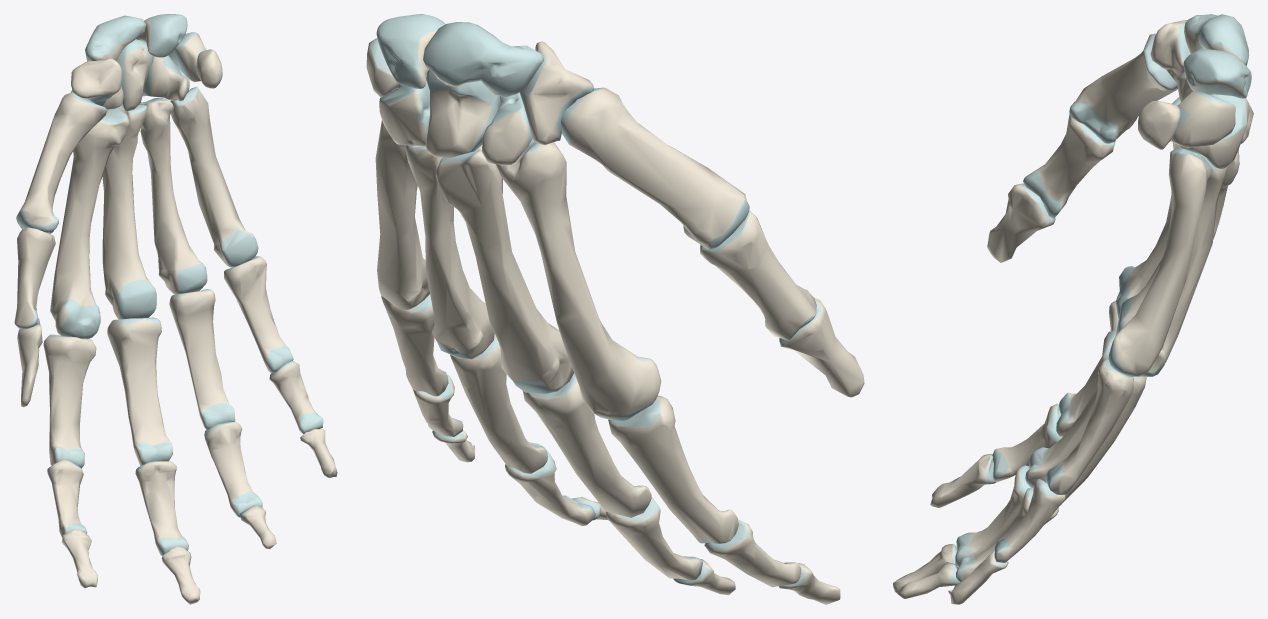
Rendered from hand.glb.
The picture shows the model from 3 angles, left to right: view 1: azimuth 30°, elevation 25°; view 2: azimuth 150°, elevation 25°; view 3: azimuth 270°, elevation 25°; orthographic projection. The views are drawn at different scales.
Parts seen in each view (by area): view 1: Second metacarpal bone (right), Third metacarpal bone (right), Fifth metacarpal bone (right), Fourth metacarpal bone (right), Proximal phalanx of third finger of hand (right), First metacarpal bone (right), Proximal phalanx of fourth finger of hand (right), Proximal phalanx of second finger of hand (right), Proximal phalanx of fifth finger of hand (right), Middle phalanx of third finger of hand (right), Proximal phalanx of first finger of hand (right), Middle phalanx of fourth finger of hand (right) (+14 smaller); view 2: Second metacarpal bone (right), Third metacarpal bone (right), First metacarpal bone (right), Fourth metacarpal bone (right), Proximal phalanx of second finger of hand (right), Fifth metacarpal bone (right), Proximal phalanx of third finger of hand (right), Proximal phalanx of first finger of hand (right), Scaphoid bone (right), Proximal phalanx of fourth finger of hand (right), Capitate bone (right), Trapezium bone (right) (+13 smaller); view 3: Fifth metacarpal bone (right), First metacarpal bone (right), Proximal phalanx of first finger of hand (right), Proximal phalanx of fifth finger of hand (right), Fourth metacarpal bone (right), Distal phalanx of first finger of hand (right), Triquetrum bone (right), Lunate bone (right), Scaphoid bone (right), Middle phalanx of fifth finger of hand (right), Proximal phalanx of third finger of hand (right), Middle phalanx of third finger of hand (right) (+13 smaller).
Part boxes in pixels (bbox=[...]): Second metacarpal bone (right): bbox=[50, 108, 129, 338]; Third metacarpal bone (right): bbox=[102, 104, 156, 319]; Fifth metacarpal bone (right): bbox=[170, 86, 258, 267]; Fourth metacarpal bone (right): bbox=[139, 98, 207, 294]; Proximal phalanx of third finger of hand (right): bbox=[107, 317, 172, 465]; First metacarpal bone (right): bbox=[16, 92, 107, 233]; Proximal phalanx of fourth finger of hand (right): bbox=[169, 289, 235, 429]; Proximal phalanx of second finger of hand (right): bbox=[43, 334, 96, 468]; Proximal phalanx of fifth finger of hand (right): bbox=[224, 256, 293, 372]; Middle phalanx of third finger of hand (right): bbox=[135, 461, 188, 555]; Proximal phalanx of first finger of hand (right): bbox=[14, 227, 55, 329]; Middle phalanx of fourth finger of hand (right): bbox=[204, 422, 262, 517]; Second metacarpal bone (right): bbox=[496, 138, 661, 421]; Third metacarpal bone (right): bbox=[436, 145, 573, 394]; First metacarpal bone (right): bbox=[561, 87, 749, 249]; Fourth metacarpal bone (right): bbox=[404, 145, 494, 359]; Proximal phalanx of second finger of hand (right): bbox=[608, 395, 738, 543]; Fifth metacarpal bone (right): bbox=[375, 120, 429, 310]; Proximal phalanx of third finger of hand (right): bbox=[522, 373, 651, 517]; Proximal phalanx of first finger of hand (right): bbox=[700, 210, 816, 340]; Scaphoid bone (right): bbox=[423, 22, 543, 96]; Proximal phalanx of fourth finger of hand (right): bbox=[450, 334, 547, 473]; Capitate bone (right): bbox=[425, 69, 500, 157]; Trapezium bone (right): bbox=[519, 41, 593, 144]; Fifth metacarpal bone (right): bbox=[1108, 147, 1212, 376]; First metacarpal bone (right): bbox=[1069, 33, 1177, 143]; Proximal phalanx of first finger of hand (right): bbox=[1023, 114, 1115, 218]; Proximal phalanx of fifth finger of hand (right): bbox=[1045, 359, 1133, 494]; Fourth metacarpal bone (right): bbox=[1140, 154, 1228, 376]; Distal phalanx of first finger of hand (right): bbox=[987, 183, 1055, 262]; Triquetrum bone (right): bbox=[1171, 91, 1235, 148]; Lunate bone (right): bbox=[1183, 49, 1251, 98]; Scaphoid bone (right): bbox=[1184, 14, 1249, 65]; Middle phalanx of fifth finger of hand (right): bbox=[994, 479, 1065, 562]; Proximal phalanx of third finger of hand (right): bbox=[1025, 330, 1116, 487]; Middle phalanx of third finger of hand (right): bbox=[955, 465, 1030, 565].
Size of the model in its own units: 0.1085 by 0.164 by 0.0881.
